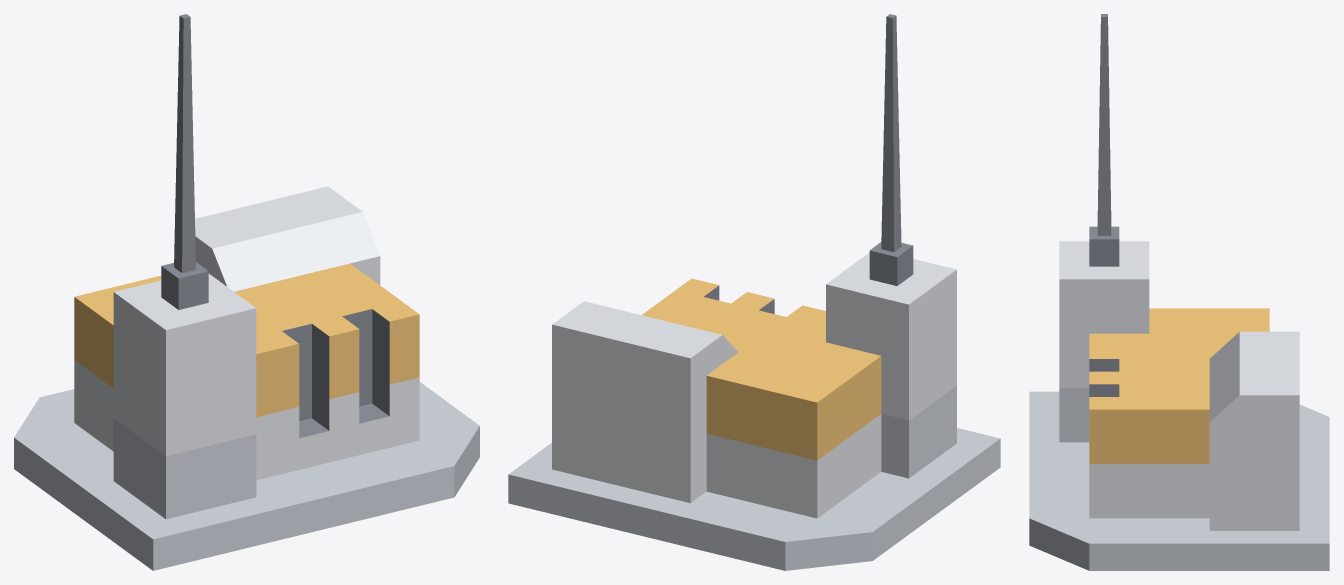
File: wirelessdevice.glb
3 renders of one model, left to right at view 1: azimuth 30°, elevation 25°; view 2: azimuth 150°, elevation 25°; view 3: azimuth 270°, elevation 25°, orthographic. The views are drawn at different scales.
Parts seen in each view (by area): view 1: machine_wirelessCable; view 2: machine_wirelessCable; view 3: machine_wirelessCable.
Part boxes in pixels (x1,y1,x2,y2): machine_wirelessCable: (14, 14, 479, 570); machine_wirelessCable: (508, 14, 1000, 570); machine_wirelessCable: (1029, 14, 1329, 570).
Size of the model in its own units: 3.29 by 4.38 by 2.74.
